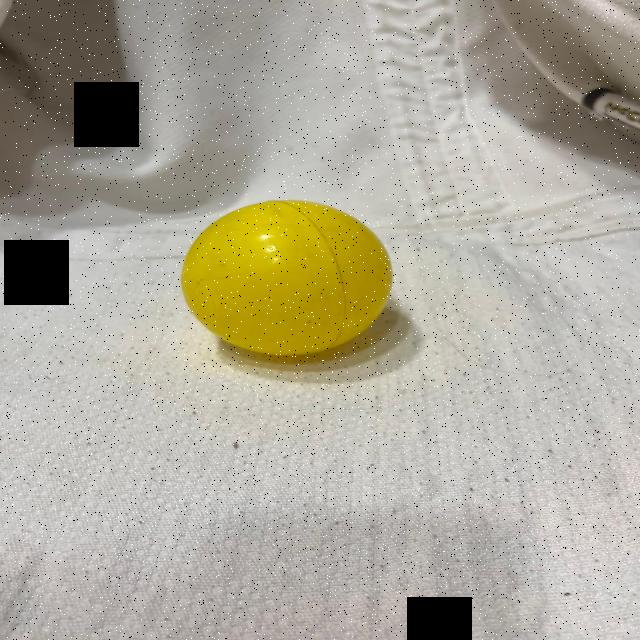ball: (180, 195, 396, 359)
